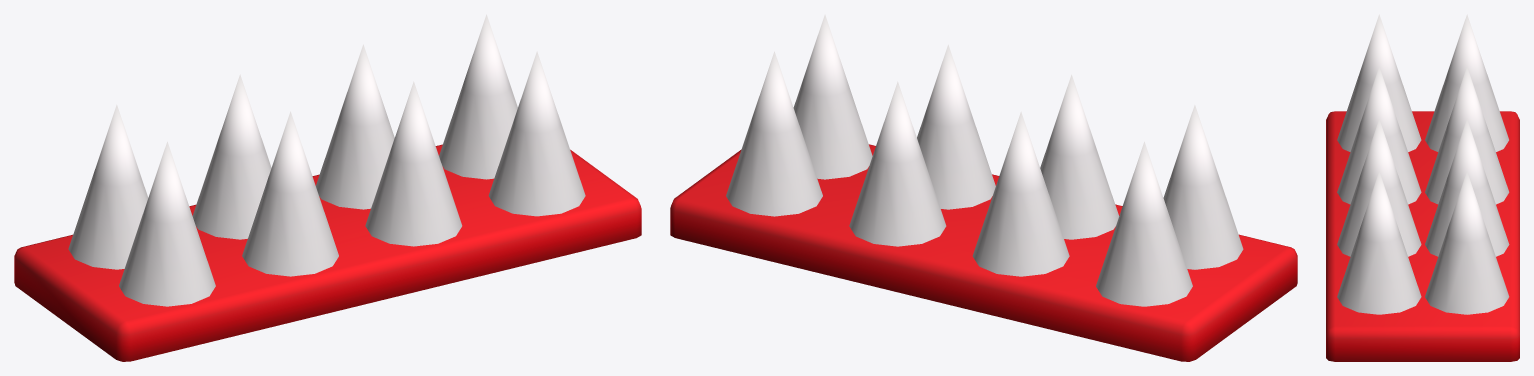
Rendered from obs_02_2.fbx.
3 views of the same model, side by side, from view 1: azimuth 30°, elevation 25°; view 2: azimuth 150°, elevation 25°; view 3: azimuth 270°, elevation 25° (orthographic). The views are drawn at different scales.
Visible parts, largest first — view 1: obs_2_2; view 2: obs_2_2; view 3: obs_2_2.
Boxes of the visible parts, x1,y1,x2,y2 form: obs_2_2: (14, 14, 641, 361); obs_2_2: (670, 14, 1297, 361); obs_2_2: (1326, 14, 1519, 361).
Bounding box in the file's own units: 175 × 57.74 × 64.28.
